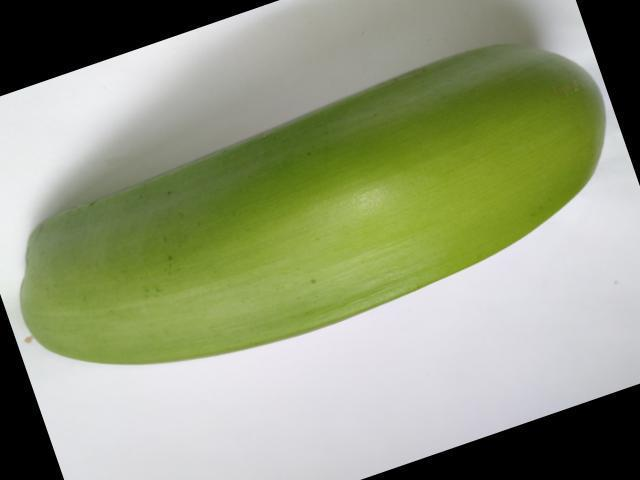freshunripe: (7, 28, 637, 382)
